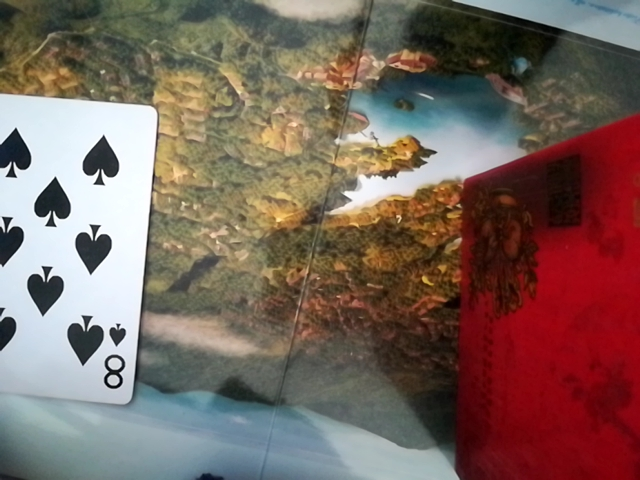ht 8: (0, 80, 154, 411)
